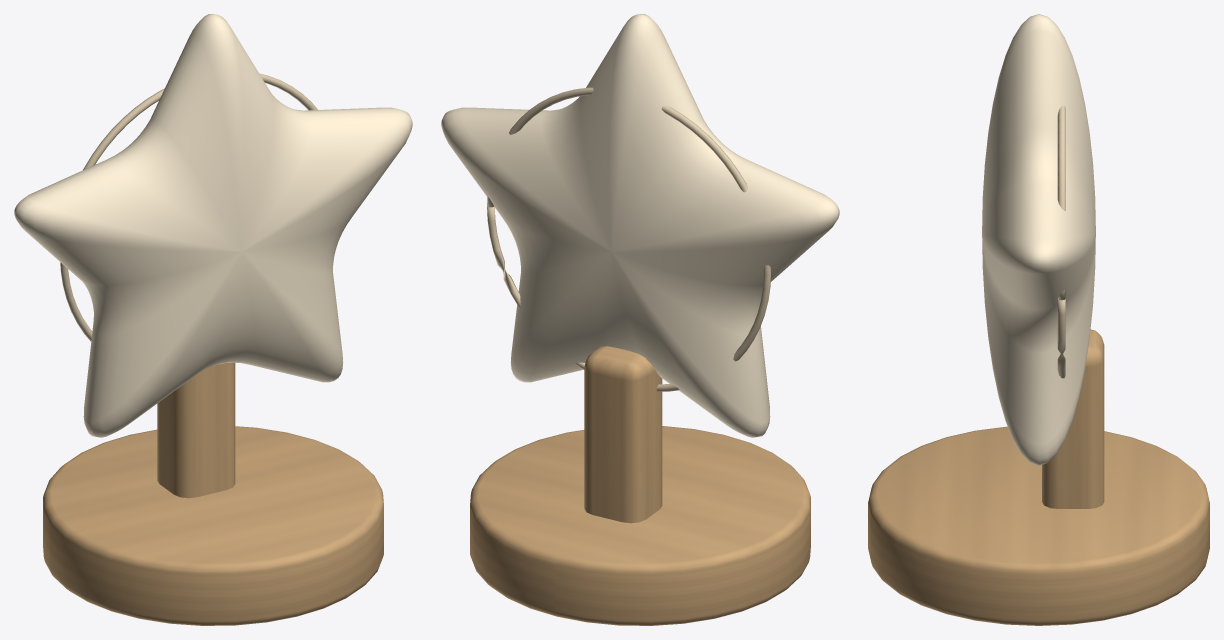
File: gift-01.8eea8cc2517d.glb
3 renders of one model, left to right at view 1: azimuth 30°, elevation 25°; view 2: azimuth 150°, elevation 25°; view 3: azimuth 270°, elevation 25°, orthographic.
Parts seen in each view (by area): view 1: Star_shell, PART_GIFT_01_ROOT_MAT_honey_wood, Back_shell_seam; view 2: Star_shell, PART_GIFT_01_ROOT_MAT_honey_wood, Back_shell_seam; view 3: PART_GIFT_01_ROOT_MAT_honey_wood, Star_shell, Back_shell_seam.
Boxes of the visible parts, x1=… form: Star_shell: x1=14, y1=14, x2=412, y2=437; PART_GIFT_01_ROOT_MAT_honey_wood: x1=43, y1=362, x2=383, y2=625; Back_shell_seam: x1=60, y1=73, x2=317, y2=341; Star_shell: x1=441, y1=14, x2=839, y2=437; PART_GIFT_01_ROOT_MAT_honey_wood: x1=470, y1=346, x2=810, y2=625; Back_shell_seam: x1=487, y1=87, x2=770, y2=391; PART_GIFT_01_ROOT_MAT_honey_wood: x1=868, y1=329, x2=1209, y2=625; Star_shell: x1=982, y1=14, x2=1095, y2=465; Back_shell_seam: x1=1057, y1=105, x2=1065, y2=378.
Bounding box in the file's own units: 0.0799 × 0.1049 × 0.06.
Materials: 3 (1 with a texture image).
